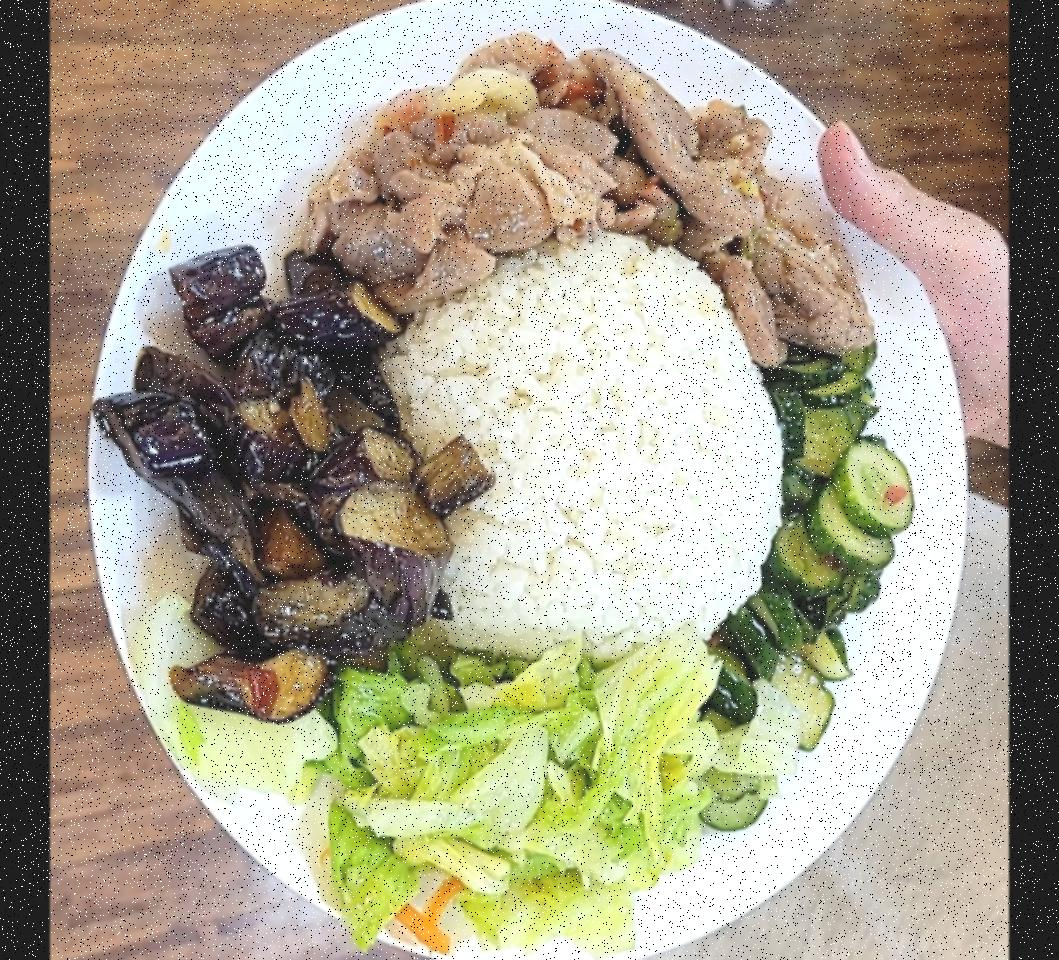garlic white meat: (303, 45, 890, 367)
plate: (78, 0, 979, 960)
side dish: (99, 243, 459, 723), (322, 642, 746, 956), (698, 328, 926, 839)
white rice: (374, 233, 791, 666)
